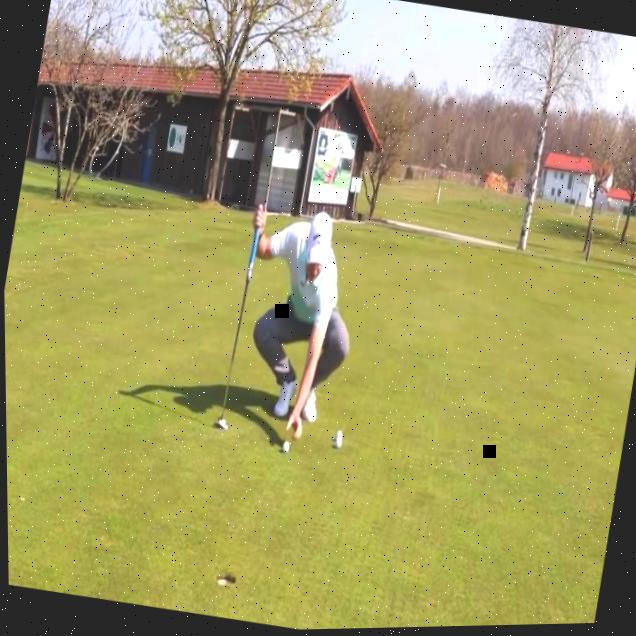ClubHead: (206, 402, 236, 452)
GolfBall: (275, 434, 296, 460), (329, 427, 348, 443), (327, 438, 343, 452)
